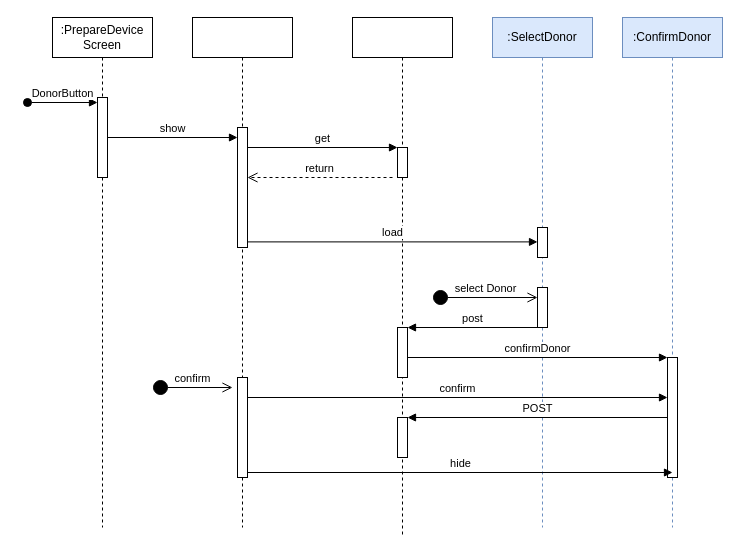
Image size: 740x555. Some labels were removed from this diagram. Each missing label, with the box of its shape:
:DMS Web Server: (352, 16, 452, 538)
:WebEngineView: (192, 16, 292, 528)
